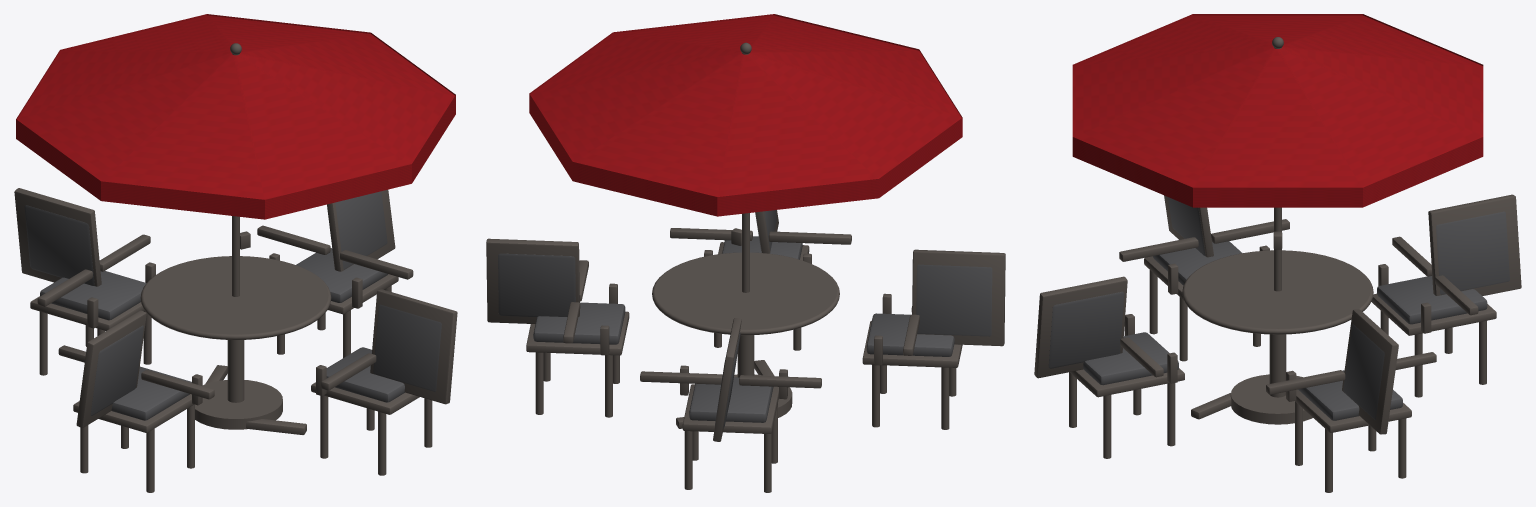
The model's file is garden-set.glb.
3 views of the same model, side by side, from view 1: azimuth 30°, elevation 25°; view 2: azimuth 150°, elevation 25°; view 3: azimuth 270°, elevation 25° (orthographic).
Parts seen in each view (by area): view 1: ParasolCanopy, TableTop, ParasolValance, ChairDBackPad, ChairBBackPad, ChairDBackFrame, ParasolBase, ChairCBackPad, ChairABackPad, ChairBBackFrame, ChairBSeatPad, ChairCBackFrame (+23 smaller); view 2: ParasolCanopy, TableTop, ParasolValance, ChairCBackPad, ChairABackPad, ChairCBackFrame, ChairABackFrame, ChairBSeatPad, ChairASeatPad, ChairCSeatPad, TableRim, ChairBSeatFrame (+12 smaller); view 3: ParasolCanopy, TableTop, ParasolValance, ChairBBackPad, ChairDBackPad, ChairBBackFrame, ChairDBackFrame, ChairBSeatPad, ChairABackPad, ParasolBase, ChairABackFrame, ChairDSeatPad (+21 smaller).
Boxes of the visible parts, x1=… form: ParasolCanopy: x1=17, y1=15, x2=454, y2=199; TableTop: x1=144, y1=256, x2=327, y2=334; ParasolValance: x1=16, y1=14, x2=455, y2=219; ChairDBackPad: x1=373, y1=304, x2=441, y2=391; ChairBBackPad: x1=24, y1=205, x2=94, y2=285; ChairDBackFrame: x1=370, y1=289, x2=457, y2=404; ParasolBase: x1=195, y1=380, x2=282, y2=429; ChairCBackPad: x1=90, y1=325, x2=143, y2=415; ChairABackPad: x1=335, y1=191, x2=387, y2=269; ChairBBackFrame: x1=14, y1=188, x2=101, y2=286; ChairBSeatPad: x1=40, y1=271, x2=146, y2=320; ChairCBackFrame: x1=76, y1=310, x2=146, y2=427; ParasolCanopy: x1=530, y1=15, x2=961, y2=196; TableTop: x1=655, y1=253, x2=836, y2=329; ParasolValance: x1=529, y1=14, x2=962, y2=216; ChairCBackPad: x1=916, y1=264, x2=992, y2=336; ChairABackPad: x1=498, y1=253, x2=575, y2=316; ChairCBackFrame: x1=912, y1=249, x2=1005, y2=346; ChairABackFrame: x1=486, y1=238, x2=579, y2=323; ChairBSeatPad: x1=689, y1=377, x2=773, y2=422; ChairASeatPad: x1=533, y1=302, x2=625, y2=344; ChairCSeatPad: x1=866, y1=313, x2=954, y2=356; TableRim: x1=652, y1=252, x2=839, y2=335; ChairBSeatFrame: x1=682, y1=384, x2=778, y2=433; ParasolCanopy: x1=1072, y1=15, x2=1483, y2=187; TableTop: x1=1185, y1=251, x2=1370, y2=328; ParasolValance: x1=1072, y1=14, x2=1483, y2=207; ChairBBackPad: x1=1436, y1=211, x2=1509, y2=294; ChairDBackPad: x1=1048, y1=291, x2=1124, y2=368; ChairBBackFrame: x1=1428, y1=194, x2=1521, y2=295; ChairDBackFrame: x1=1034, y1=276, x2=1127, y2=378; ChairBSeatPad: x1=1377, y1=276, x2=1487, y2=324; ChairABackPad: x1=1343, y1=324, x2=1384, y2=419; ParasolBase: x1=1230, y1=374, x2=1312, y2=424; ChairABackFrame: x1=1342, y1=309, x2=1398, y2=434; ChairDSeatPad: x1=1083, y1=332, x2=1178, y2=385.
Size of the model in its own units: 2.89 by 2.4 by 2.89.
Materials: 3 (1 with a texture image).
